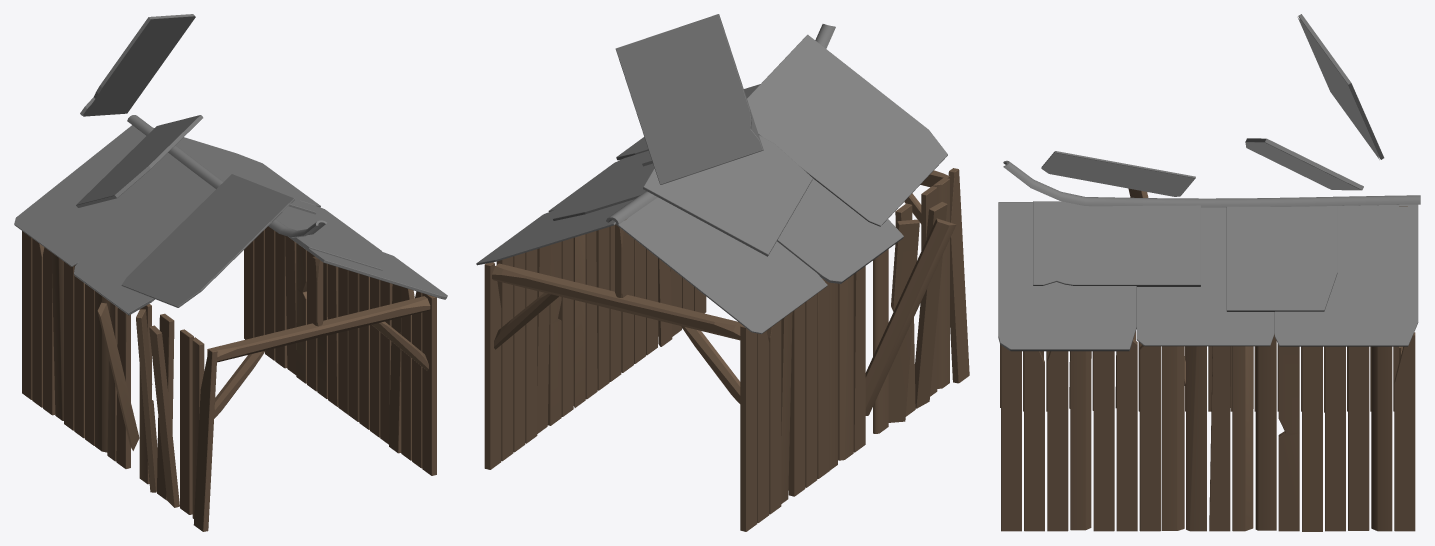
Rendered from BuildingBroken-M00A.fbx.
3 views of the same model, side by side, from view 1: azimuth 30°, elevation 25°; view 2: azimuth 150°, elevation 25°; view 3: azimuth 270°, elevation 25° (orthographic). The views are drawn at different scales.
Visible parts, largest first — view 1: Building-M00A, Building-Roof-M00A; view 2: Building-M00A, Building-Roof-M00A; view 3: Building-M00A, Building-Roof-M00A.
Part boxes in pixels (x1=…): Building-M00A: x1=22, y1=226, x2=436, y2=531; Building-Roof-M00A: x1=14, y1=14, x2=447, y2=315; Building-M00A: x1=484, y1=168, x2=969, y2=531; Building-Roof-M00A: x1=476, y1=14, x2=947, y2=334; Building-M00A: x1=1000, y1=188, x2=1415, y2=531; Building-Roof-M00A: x1=998, y1=14, x2=1420, y2=351.
Size of the model in its own units: 940 by 1205 by 1058.
